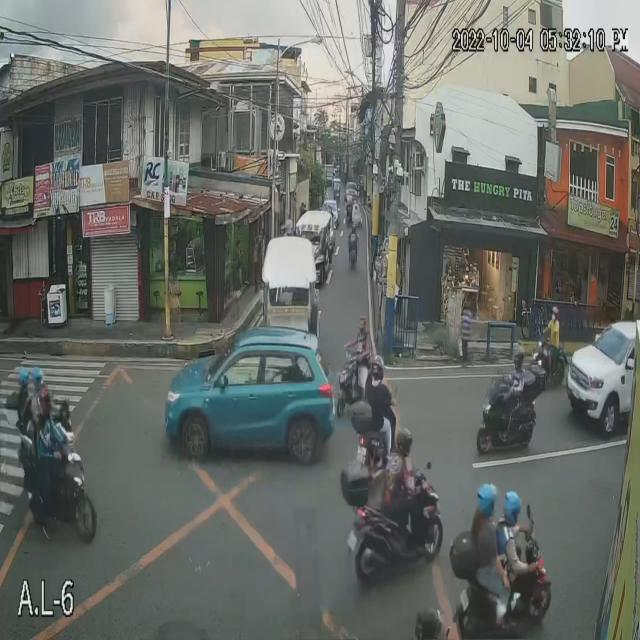full: (370, 352, 388, 379), (396, 428, 413, 456), (512, 346, 523, 368)
half: (478, 484, 497, 519), (504, 491, 522, 526), (18, 367, 31, 387), (32, 366, 43, 386), (550, 304, 559, 324)
